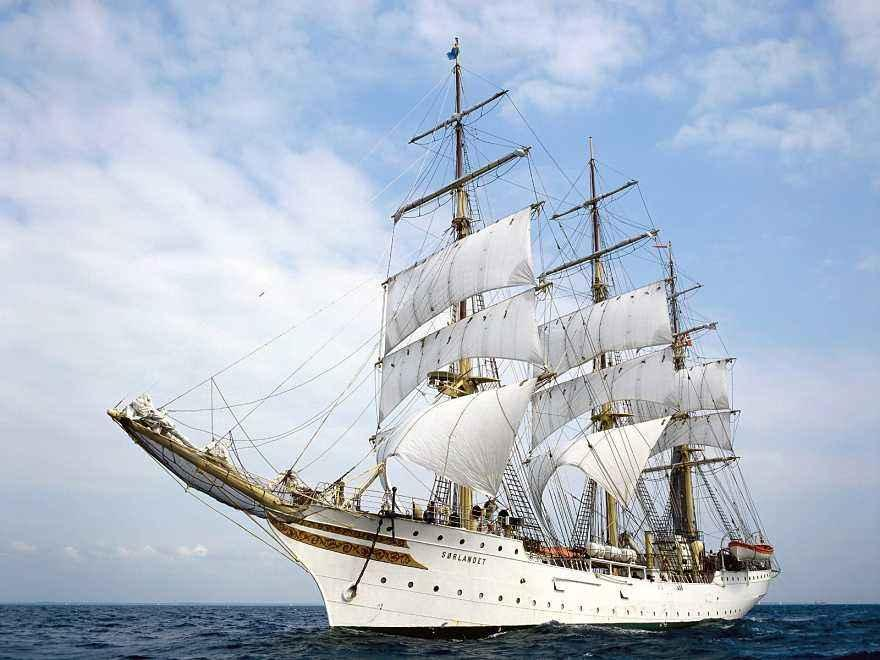fanchuan: (103, 32, 782, 627)
